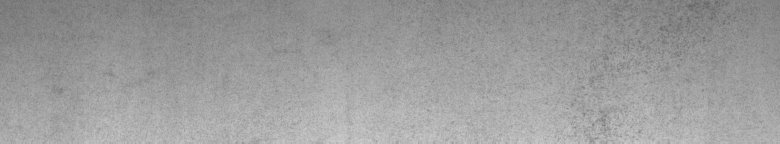ib: (582, 16, 736, 132)
